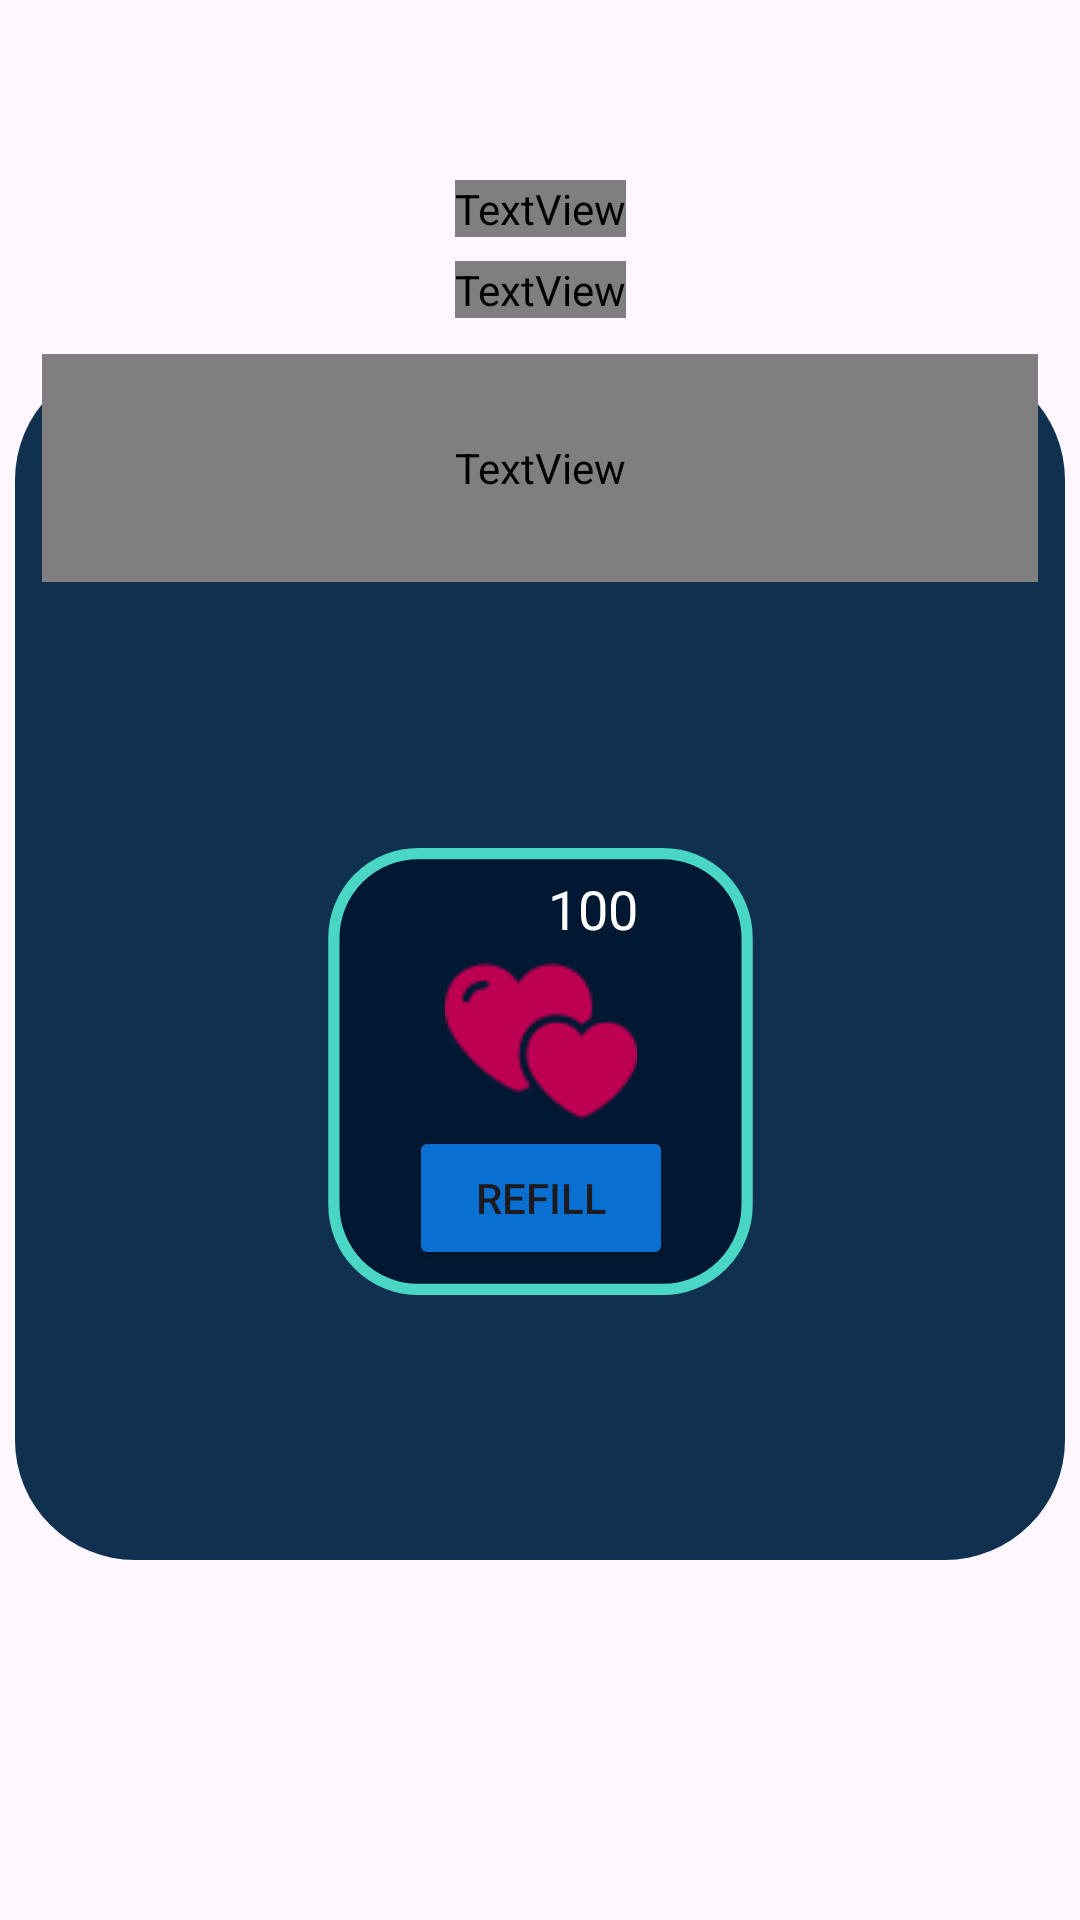

Screen size 1080x1920. Icon name, then its box in pixels as bbox=(x1, y1, x2, y2):
Hearts: bbox=(445, 962, 637, 1120)
